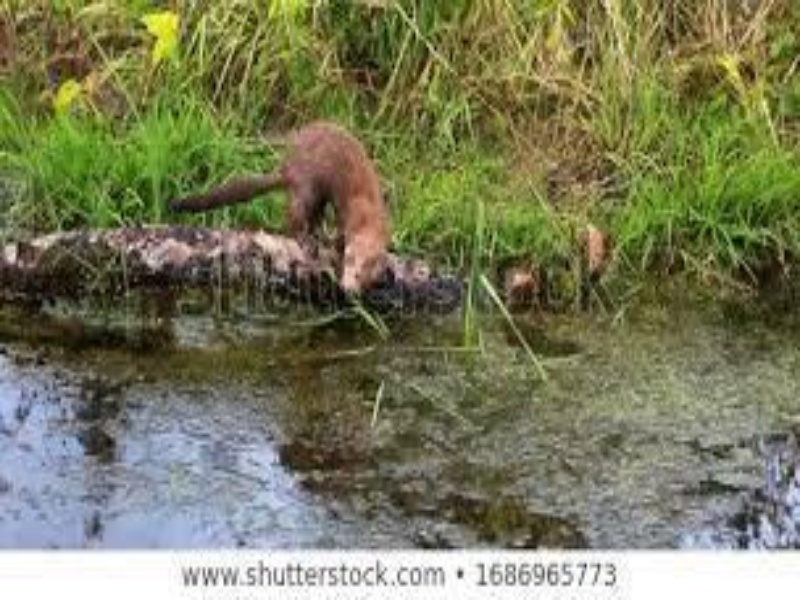minkish: (169, 122, 393, 302)
